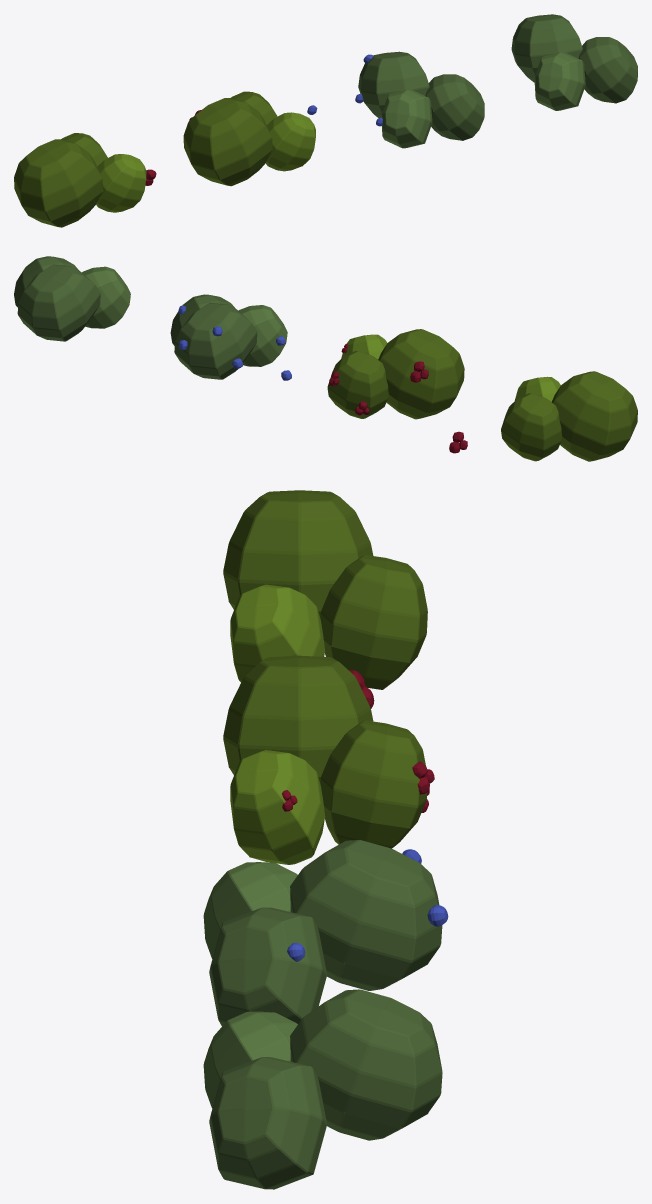
The model's file is Bush.fbx.
The picture shows the model from 3 angles, top to bottom: view 1: azimuth 30°, elevation 25°; view 2: azimuth 150°, elevation 25°; view 3: azimuth 270°, elevation 25°; orthographic projection. The views are drawn at different scales.
Parts seen in each view (by area): view 1: Bush2, Bush1, Bush3, Bush4; view 2: Bush2, Bush1, Bush3, Bush4; view 3: Bush4, Bush2, Bush3, Bush1.
Boxes of the visible parts, bbox=[...] form: Bush2: bbox=[183, 91, 315, 186]; Bush1: bbox=[14, 133, 146, 227]; Bush3: bbox=[355, 51, 484, 148]; Bush4: bbox=[511, 14, 637, 110]; Bush2: bbox=[327, 329, 464, 419]; Bush1: bbox=[501, 371, 637, 461]; Bush3: bbox=[170, 294, 287, 379]; Bush4: bbox=[14, 256, 130, 341]; Bush4: bbox=[203, 989, 442, 1189]; Bush2: bbox=[223, 655, 434, 864]; Bush3: bbox=[203, 840, 448, 1026]; Bush1: bbox=[223, 490, 427, 689].
Bounding box in the file's own units: 34.93 × 4.67 × 6.1.
